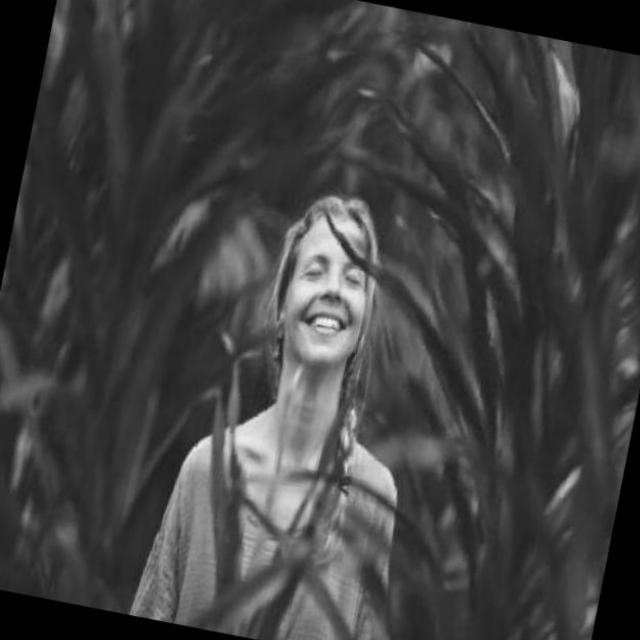Happy: (285, 215, 379, 355)
